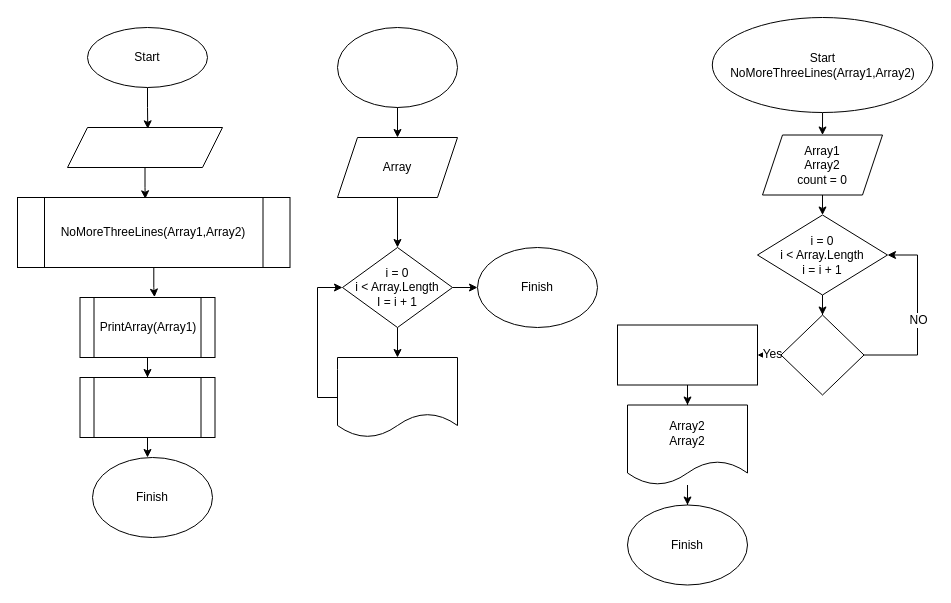
The diagram is 951 pixels wide and 603 high, and some of its shapes have lost their labels. The shapes that lost their labels are listed below. From the top down, each one's box as (x1, y1, x2, y2) in pixels, then its label:
(336, 26, 458, 108): Start PrintArray(Array)
(66, 126, 222, 168): Array1[5] Array2[Array1.Length]
(616, 324, 758, 385): Array2[count] = Array1[i] count = count +1
(780, 314, 864, 395): Array1[i] <= 3
(79, 376, 215, 438): PrintArray(Array2)
(336, 356, 458, 438): Array[i]
